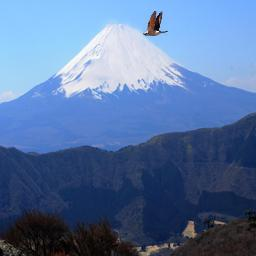Cuckoo: (144, 12, 169, 37)
